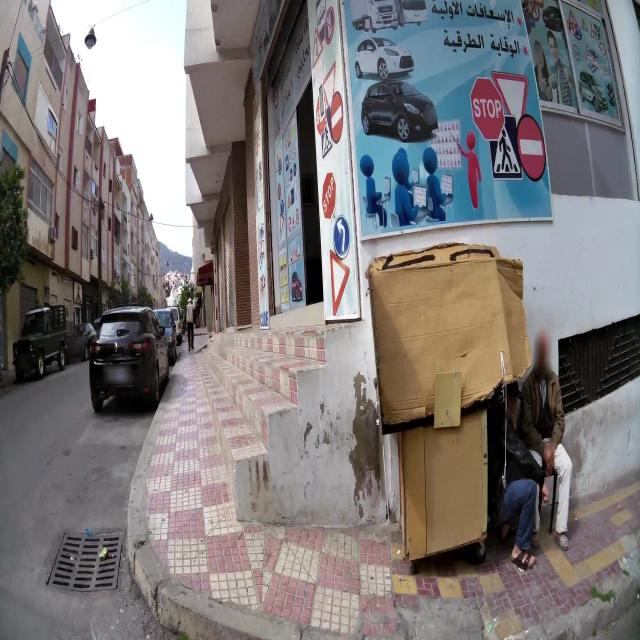car: (89, 303, 169, 413), (12, 302, 68, 382), (152, 308, 176, 366), (65, 321, 91, 361), (169, 305, 183, 346)
